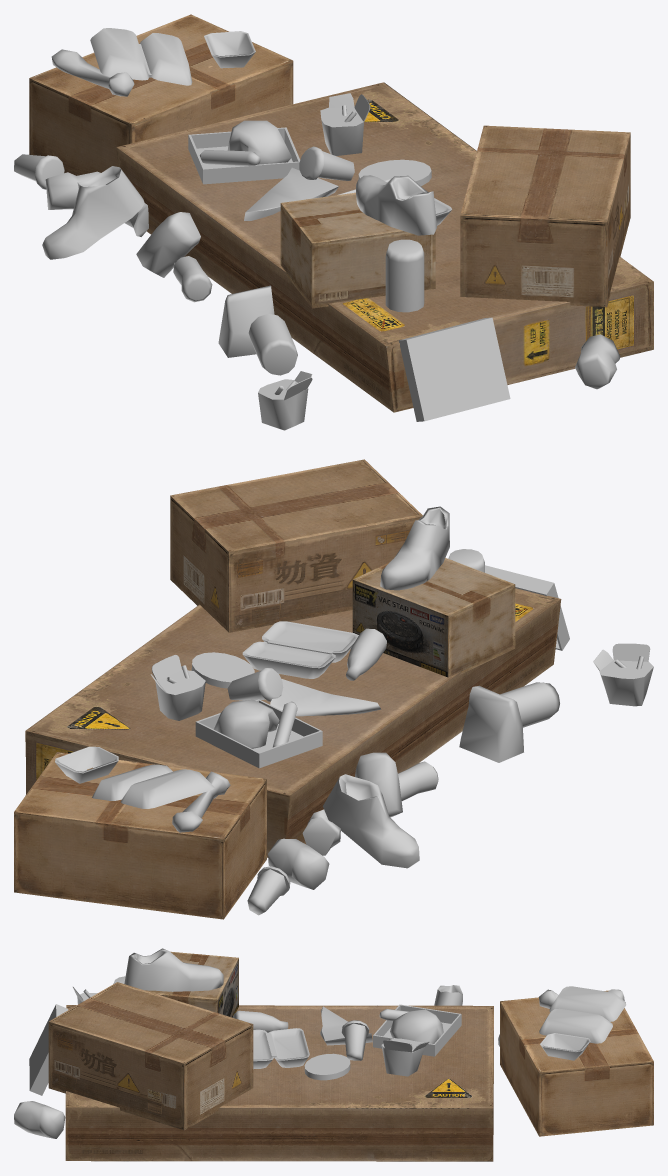
Rendered from CP_Garbage_04.fbx.
The picture shows the model from 3 angles, top to bottom: view 1: azimuth 30°, elevation 25°; view 2: azimuth 150°, elevation 25°; view 3: azimuth 270°, elevation 25°; orthographic projection. The views are drawn at different scales.
Parts seen in each view (by area): view 1: CP_Garbage_04_LOD0; view 2: CP_Garbage_04_LOD0; view 3: CP_Garbage_04_LOD0.
Boxes of the visible parts, <box> form: CP_Garbage_04_LOD0: <box>14,14,653,430</box>; CP_Garbage_04_LOD0: <box>14,459,653,919</box>; CP_Garbage_04_LOD0: <box>14,948,653,1161</box>.
Size of what is drawn, in the model's own units: 170 by 66.95 by 282.
